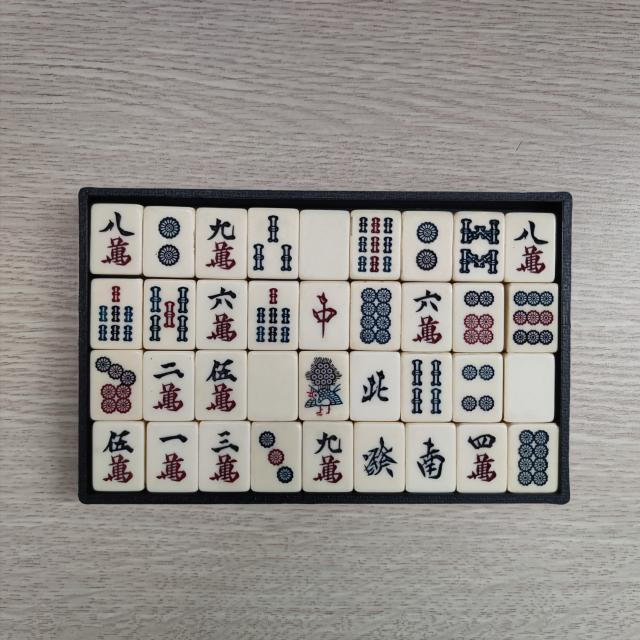hdg: (360, 428, 400, 488)
hdr: (304, 285, 344, 346)
hdw: (304, 215, 346, 277), (254, 357, 295, 417), (510, 359, 551, 419)
hwn: (354, 358, 394, 416)
hws: (410, 430, 450, 488)
sb1: (303, 356, 347, 418)
sb3: (252, 214, 296, 278)
sb4: (407, 357, 447, 418)
sb5: (150, 282, 194, 344)
sb7: (94, 282, 138, 344), (252, 285, 296, 347)
sb8: (457, 216, 500, 278)
sb9: (356, 214, 396, 276)
sc1: (154, 429, 194, 489)
sc2: (148, 357, 190, 416)
sc3: (206, 426, 246, 488)
sc4: (462, 430, 504, 488)
sc5: (201, 355, 242, 416), (98, 427, 138, 488)
sc6: (408, 286, 448, 348), (202, 284, 242, 346)
sc8: (94, 208, 136, 270), (513, 216, 554, 276)
sc9: (200, 212, 242, 274), (308, 427, 350, 488)
sd2: (151, 212, 191, 274), (407, 216, 447, 278)
sd3: (256, 427, 298, 488)
sd4: (458, 358, 498, 418)
sd6: (460, 287, 500, 349)
sd7: (94, 356, 140, 418)
sd8: (356, 286, 398, 348), (512, 430, 552, 490)
sd9: (510, 289, 554, 349)
